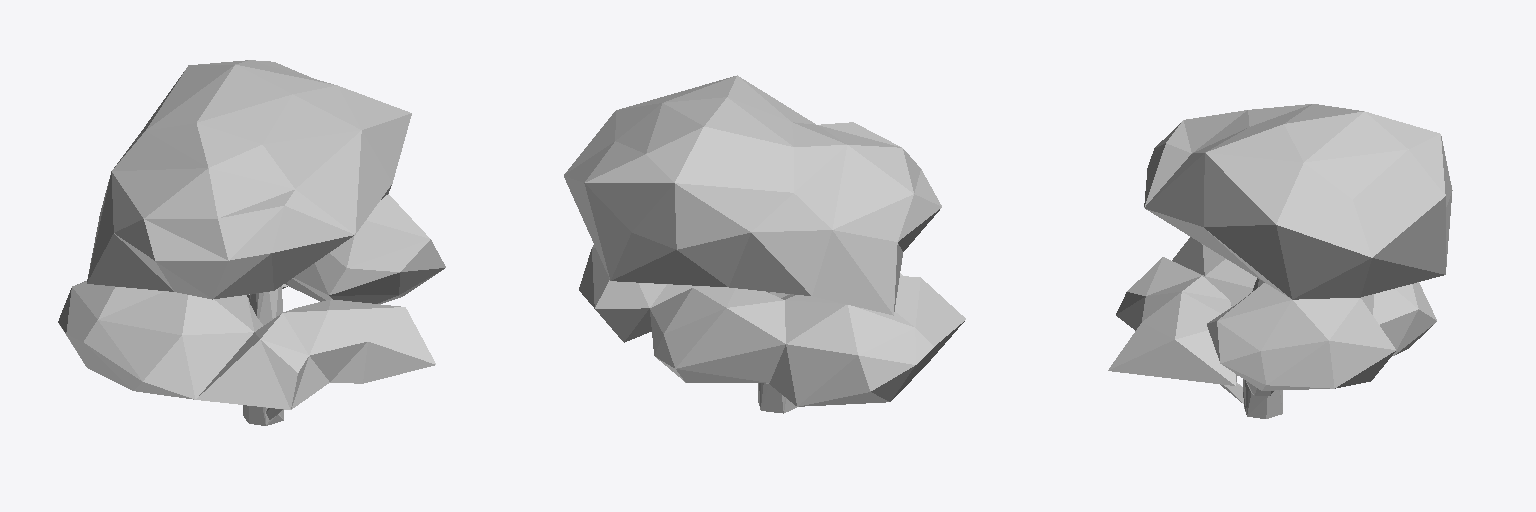
Rendered from bush01.obj.
3 views of the same model, side by side, from view 1: azimuth 30°, elevation 25°; view 2: azimuth 150°, elevation 25°; view 3: azimuth 270°, elevation 25° (orthographic).
Parts seen in each view (by area): view 1: Cylinder.001; view 2: Cylinder.001; view 3: Cylinder.001.
Part boxes in pixels (bbox=[...]): Cylinder.001: bbox=[58, 60, 445, 425]; Cylinder.001: bbox=[564, 75, 965, 413]; Cylinder.001: bbox=[1108, 104, 1452, 418].
Size of the model in its own units: 1.13 by 0.9922 by 0.9994.